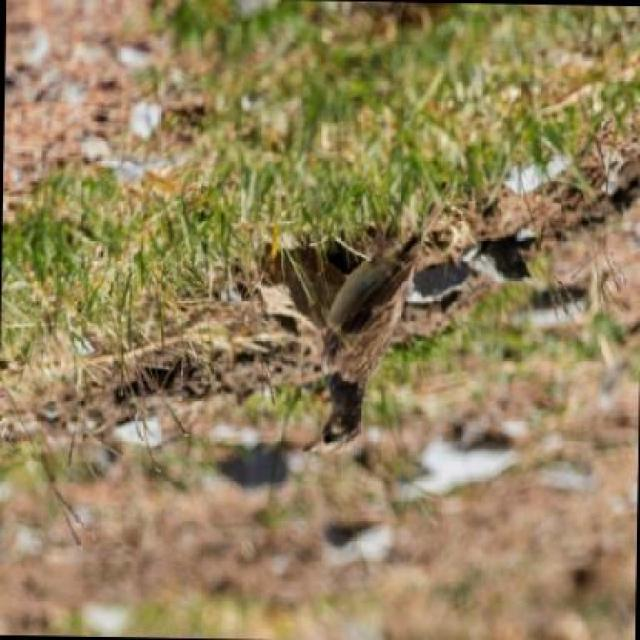Bird: (307, 219, 409, 460)
